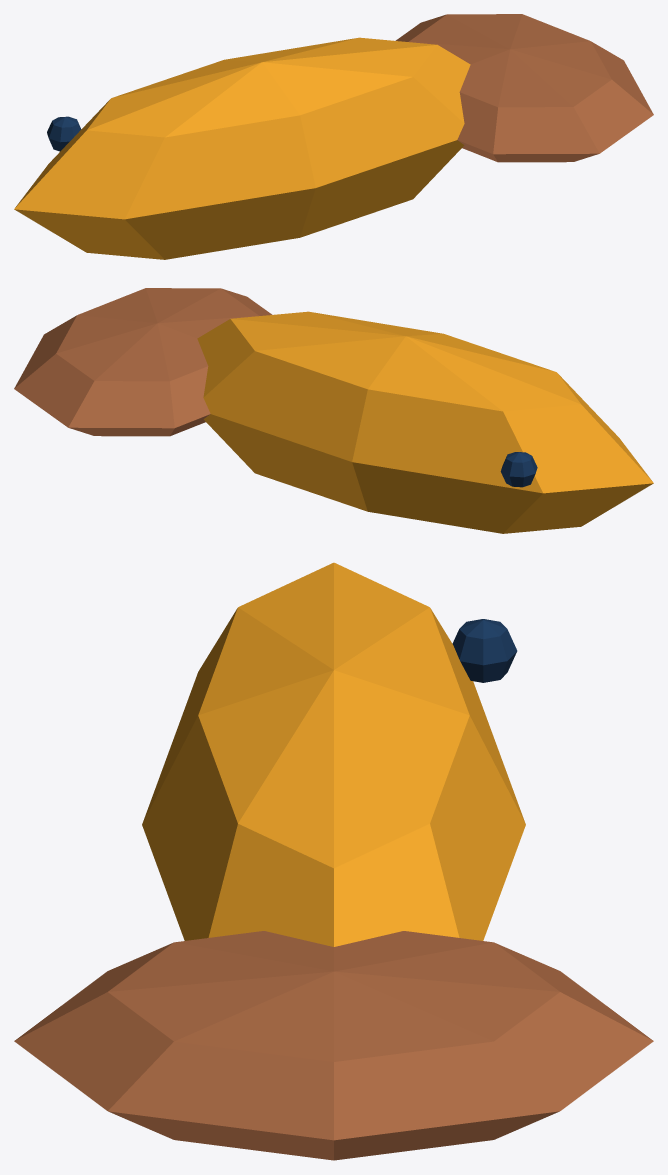
The model's file is Item_DriedFish_v001.fbx.
The picture shows the model from 3 angles, top to bottom: view 1: azimuth 30°, elevation 25°; view 2: azimuth 150°, elevation 25°; view 3: azimuth 270°, elevation 25°; orthographic projection. The views are drawn at different scales.
Parts seen in each view (by area): view 1: FishBody, FishTail, FishEye; view 2: FishBody, FishTail, FishEye; view 3: FishBody, FishTail, FishEye.
Part boxes in pixels (x1=…): FishBody: x1=14, y1=37, x2=470, y2=259; FishTail: x1=395, y1=14, x2=653, y2=162; FishEye: x1=47, y1=116, x2=81, y2=151; FishBody: x1=197, y1=311, x2=653, y2=533; FishTail: x1=14, y1=288, x2=272, y2=436; FishEye: x1=500, y1=452, x2=537, y2=487; FishBody: x1=142, y1=562, x2=525, y2=946; FishTail: x1=14, y1=931, x2=653, y2=1160; FishEye: x1=452, y1=619, x2=517, y2=682.
Bounding box in the file's own units: 22.12 × 6 × 11.25.
